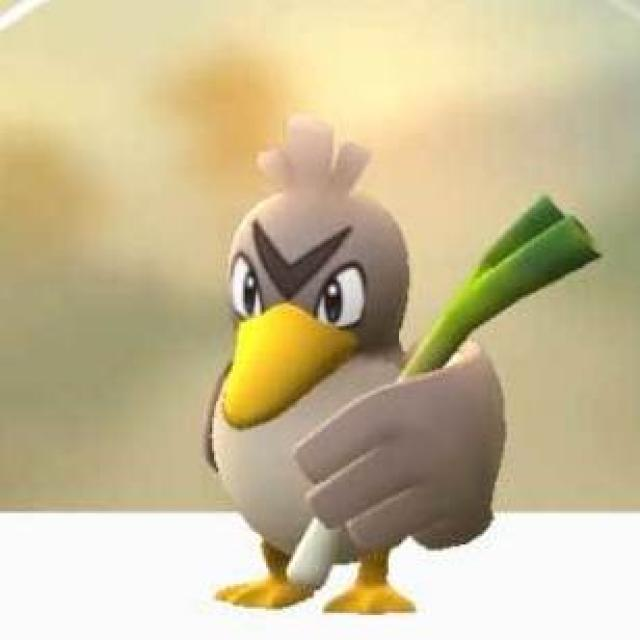Farfetchd: (183, 178, 538, 605)
